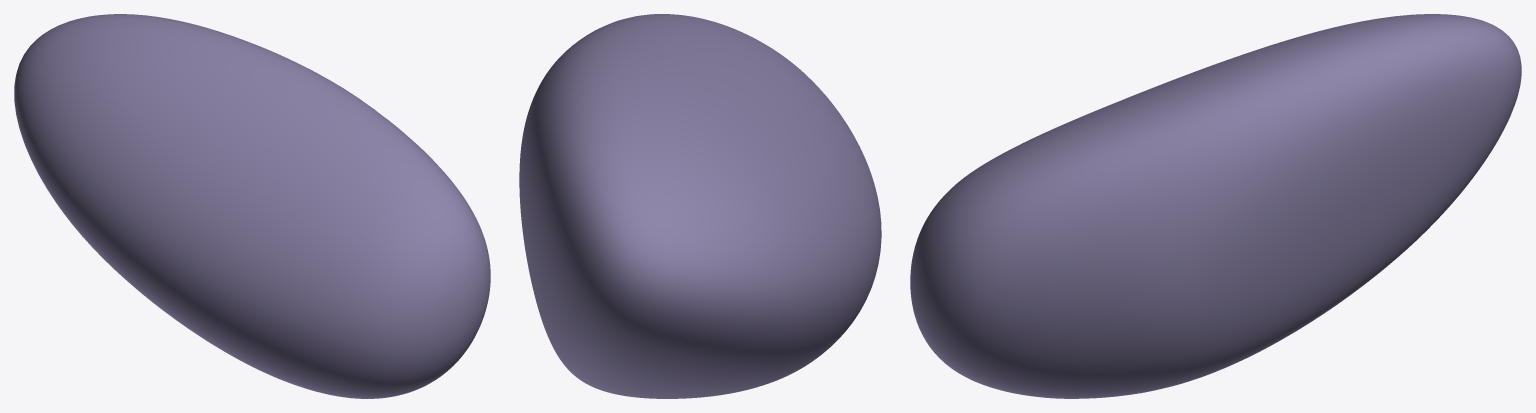
The picture shows the model from 3 angles, left to right: view 1: azimuth 30°, elevation 25°; view 2: azimuth 150°, elevation 25°; view 3: azimuth 270°, elevation 25°; orthographic projection. The views are drawn at different scales.
Parts seen in each view (by area): view 1: WE_F; view 2: WE_F; view 3: WE_F.
Part boxes in pixels (box(x1,y1,x2,y2)): WE_F: box(14, 14, 490, 398); WE_F: box(519, 14, 881, 398); WE_F: box(910, 14, 1521, 398).
Bounding box in the file's own units: 4.83 × 4.46 × 7.7.
